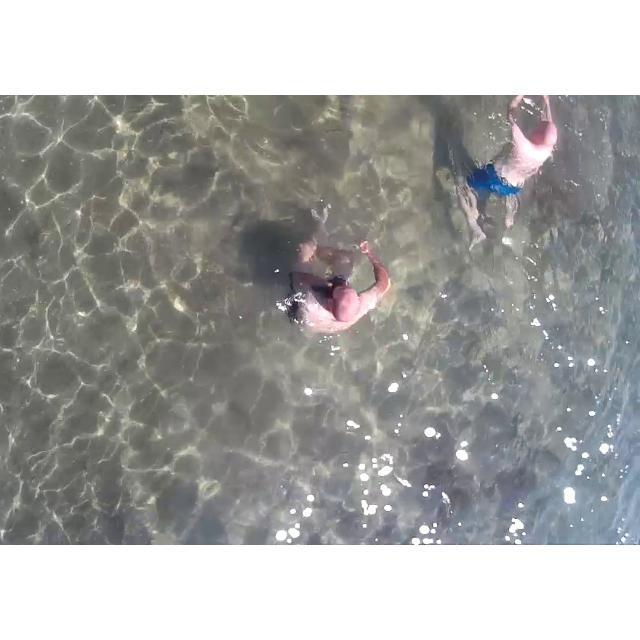human: (283, 217, 389, 353), (475, 95, 560, 263)
